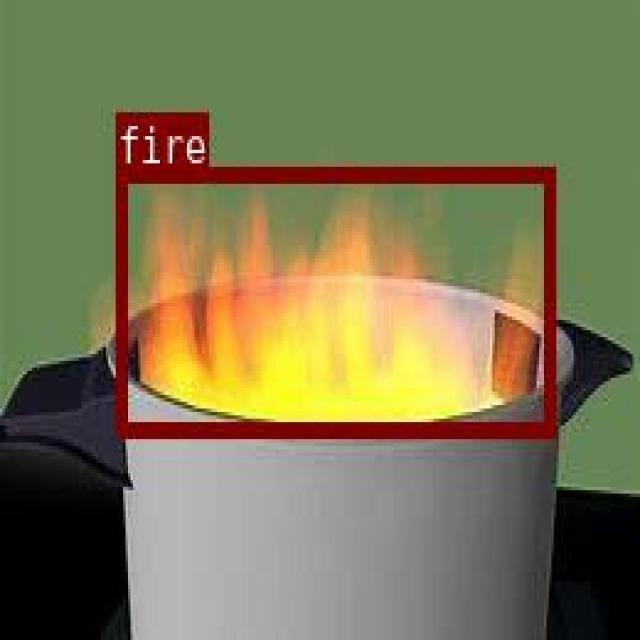fire: (115, 164, 553, 435)
